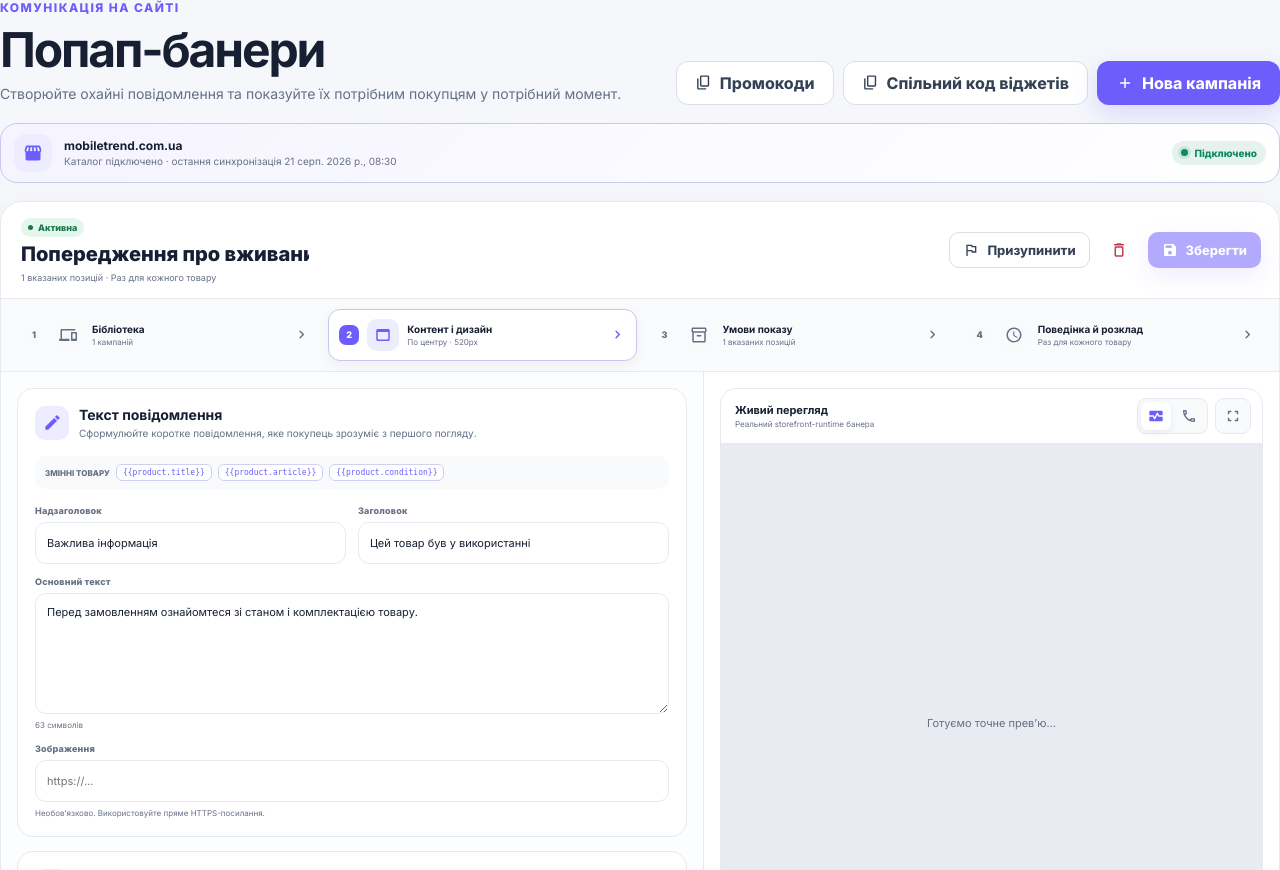
PopupBannersPage › shows an empty library after deleting the last campaign
The width and height of the screenshot is (1280, 870).
Expected: the field showing "Попередження про вживаний товар" is shown, [21, 242, 309, 267]
Click the button named "Видалити кампанію".
click(1119, 250)  # box [1099, 230, 1139, 270]
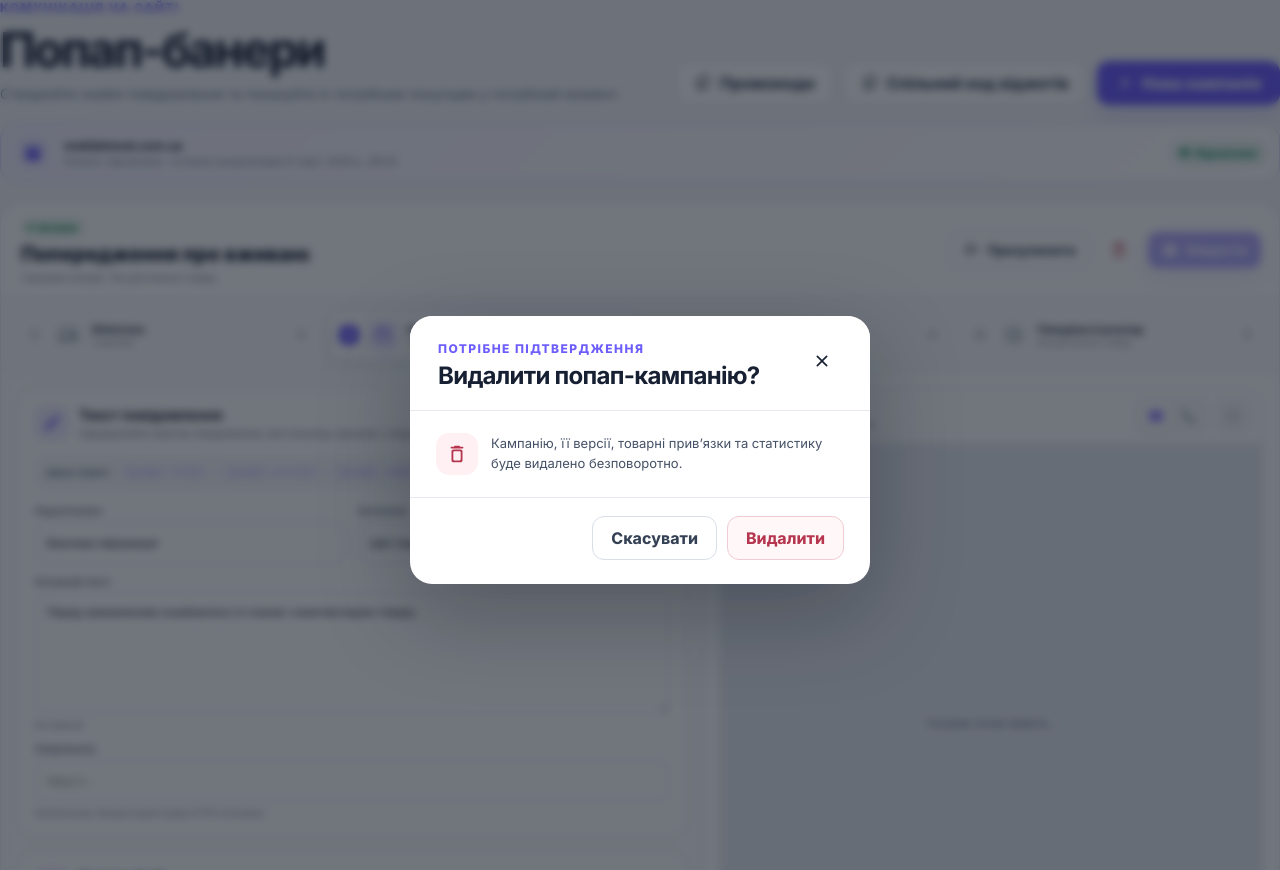
Click the button "Видалити".
click(786, 538)  # box [727, 516, 844, 560]
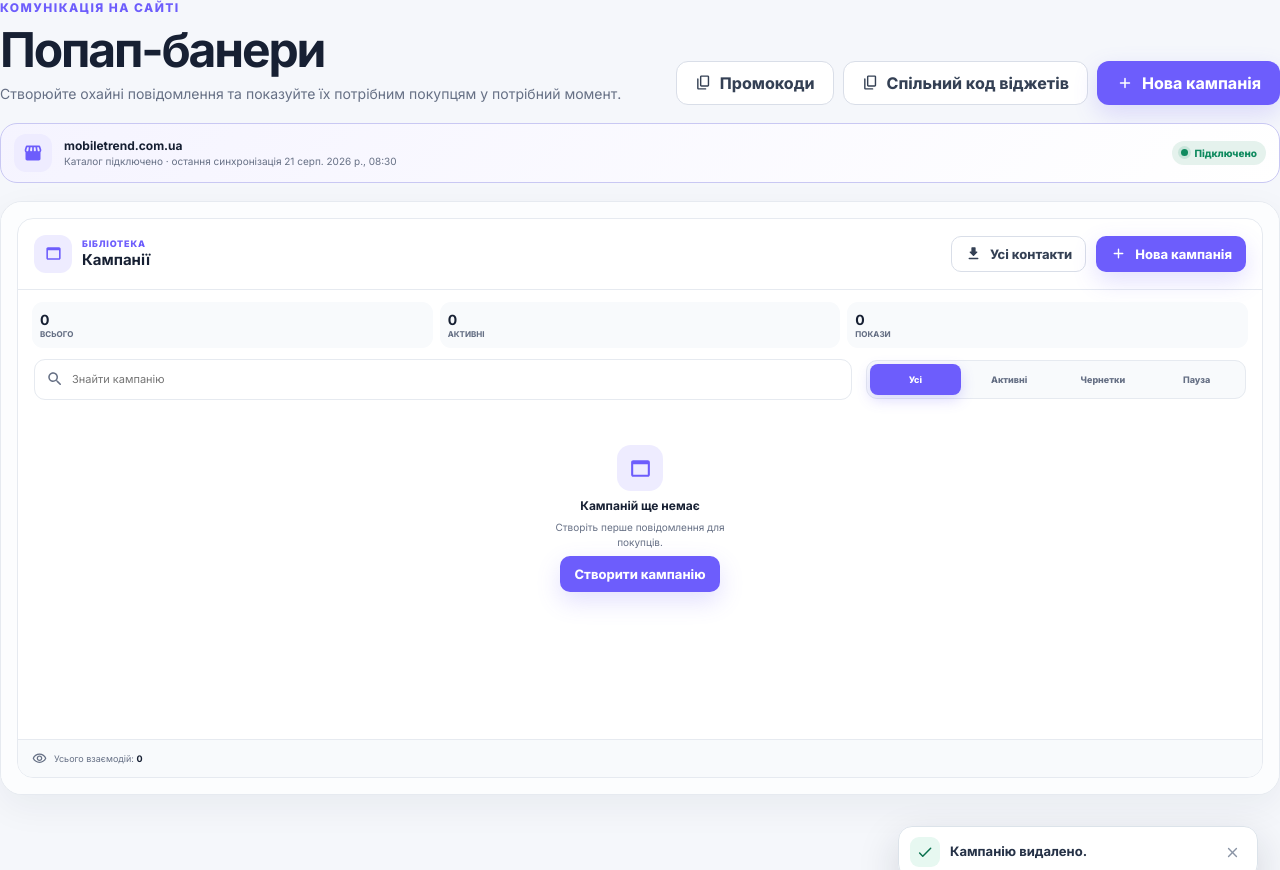
Now the text "Кампаній ще немає" is shown, box [580, 498, 700, 513]
